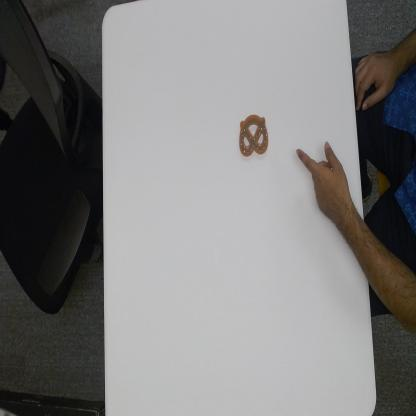Arm: (354, 202, 416, 319)
Hand: (298, 135, 351, 229)
Pretzel: (239, 114, 269, 158)
